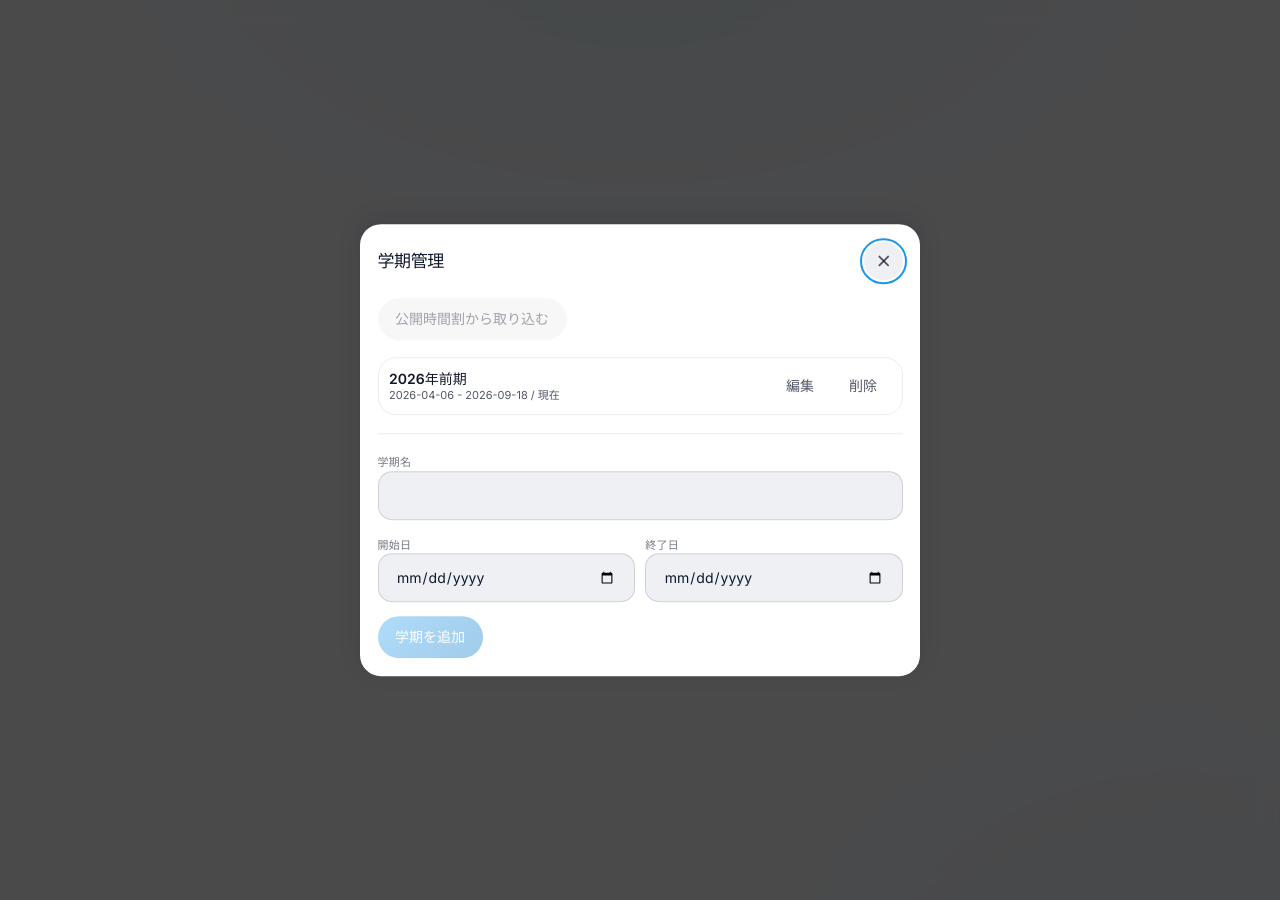
Test case: SemesterListSheet › prefills name, start date, and end date after clicking edit
Click the button "編集": (800, 386) 772,369 -> 828,404
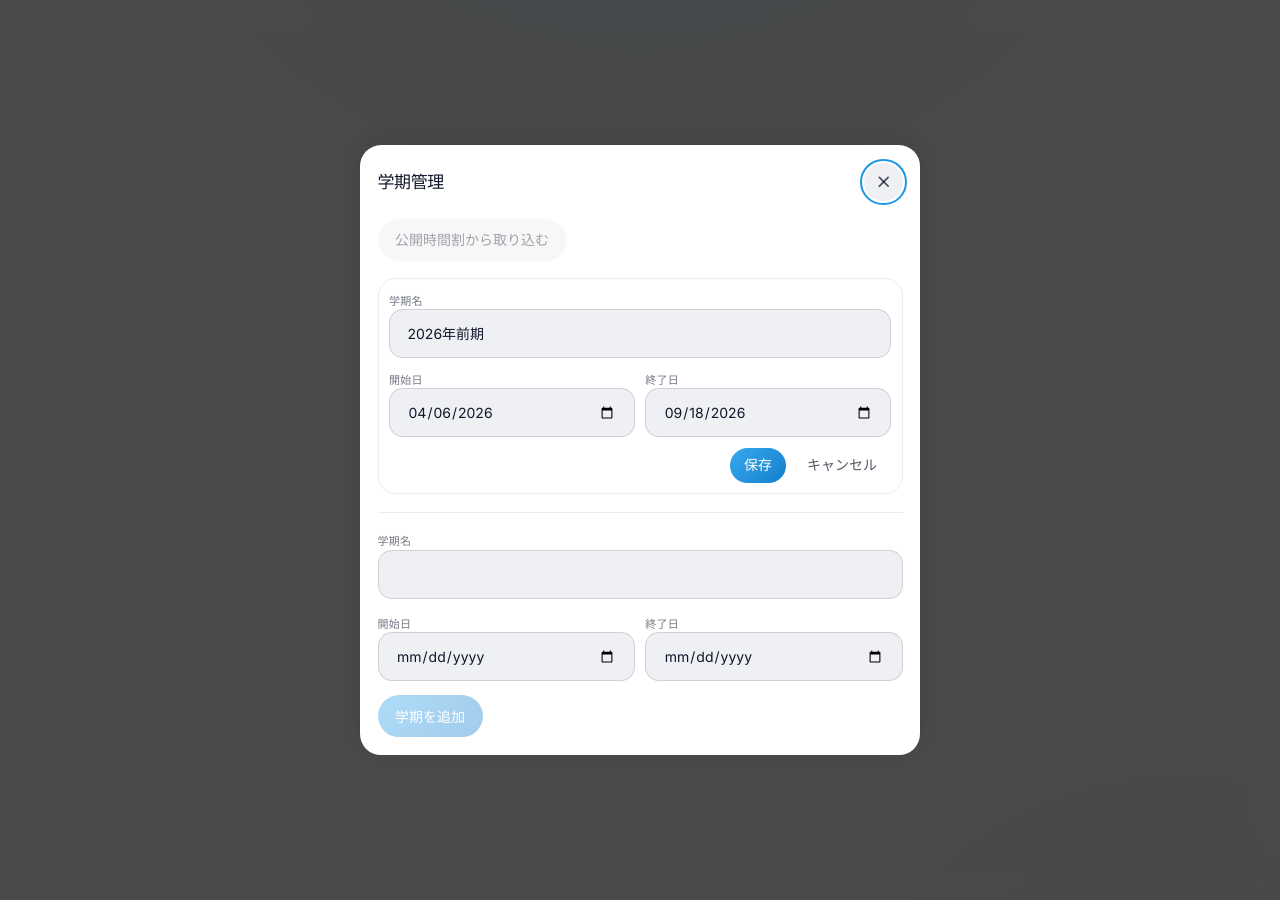
Expected: the 1st field showing "2026年前期" is shown, 389,309 -> 891,358
Expected: the 1st date field showing "2026-04-06" is shown, 389,388 -> 635,437
Expected: the 1st date field showing "2026-09-18" is shown, 645,388 -> 891,437
